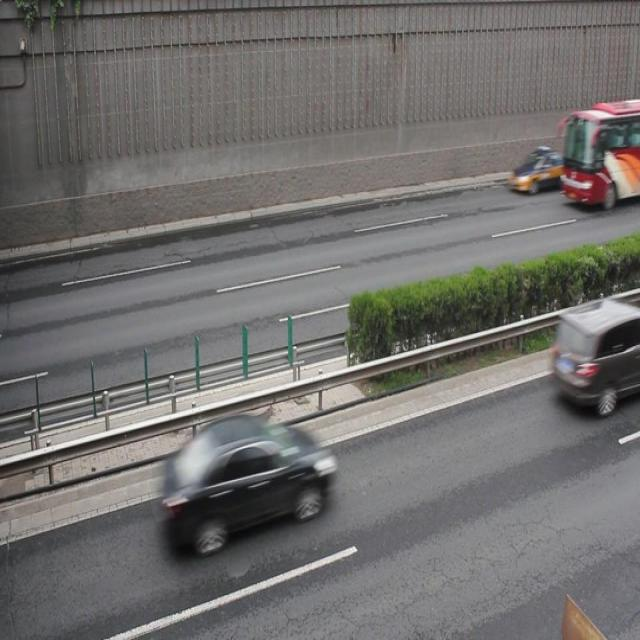car: (160, 411, 332, 550), (508, 151, 570, 193)
truck: (551, 296, 640, 415)
van: (563, 104, 640, 207)
